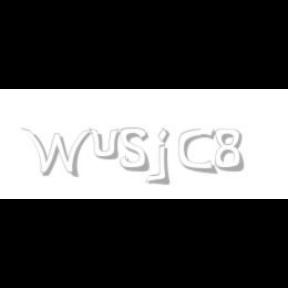8: (214, 128, 243, 172)
C: (179, 128, 216, 174)
S: (120, 128, 150, 172)
W: (20, 128, 92, 178)
j: (154, 128, 184, 186)
u: (88, 128, 124, 160)
